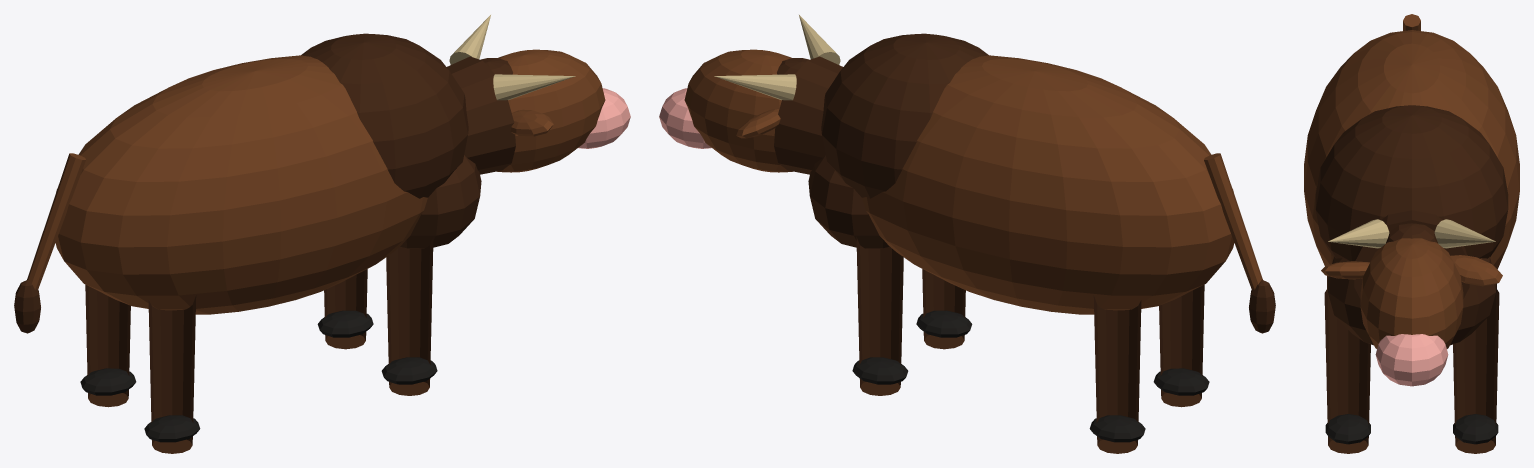
File: smooth_brown_bull.obj
The picture shows the model from 3 angles, left to right: view 1: azimuth 30°, elevation 25°; view 2: azimuth 150°, elevation 25°; view 3: azimuth 270°, elevation 25°; orthographic projection.
Visible parts, largest first — view 1: muscular_body, heavy_shoulders, head, bull_leg_4, bull_leg_2, thick_neck, chest, bull_leg_1, tail, bull_leg_3, broad_muzzle, left_horn (+7 smaller); view 2: muscular_body, heavy_shoulders, head, bull_leg_3, bull_leg_1, thick_neck, chest, bull_leg_2, tail, bull_leg_4, broad_muzzle, right_horn (+7 smaller); view 3: heavy_shoulders, muscular_body, head, bull_leg_3, bull_leg_4, chest, broad_muzzle, thick_neck, right_ear, bull_hoof_3, bull_hoof_4, left_horn (+4 smaller).
Boxes of the visible parts, x1,y1,x2,y2 form: muscular_body: (55, 55, 427, 314); heavy_shoulders: (301, 33, 468, 198); head: (497, 49, 605, 172); bull_leg_4: (386, 237, 433, 395); bull_leg_2: (148, 295, 196, 453); thick_neck: (447, 56, 515, 174); chest: (400, 155, 481, 248); bull_leg_1: (85, 284, 130, 407); tail: (27, 153, 85, 289); bull_leg_3: (324, 269, 367, 349); broad_muzzle: (578, 88, 630, 148); left_horn: (493, 74, 575, 100); muscular_body: (862, 55, 1234, 314); heavy_shoulders: (821, 33, 988, 198); head: (684, 49, 792, 172); bull_leg_3: (856, 237, 903, 395); bull_leg_1: (1093, 295, 1141, 453); thick_neck: (774, 56, 842, 174); chest: (808, 155, 889, 248); bull_leg_2: (1159, 284, 1204, 407); tail: (1204, 153, 1262, 289); bull_leg_4: (922, 269, 965, 349); broad_muzzle: (659, 88, 711, 148); right_horn: (714, 74, 796, 100); heavy_shoulders: (1315, 105, 1508, 261); muscular_body: (1304, 30, 1519, 269); head: (1360, 238, 1463, 348); bull_leg_3: (1453, 288, 1499, 453); bull_leg_4: (1324, 288, 1370, 453); chest: (1328, 256, 1495, 345); broad_muzzle: (1375, 334, 1448, 386); thick_neck: (1354, 210, 1469, 298); right_ear: (1450, 255, 1502, 286); bull_hoof_3: (1453, 414, 1498, 444); bull_hoof_4: (1325, 414, 1370, 444); left_horn: (1328, 219, 1389, 248).
Bounding box in the file's own units: 3.1 × 1.57 × 0.9502.
